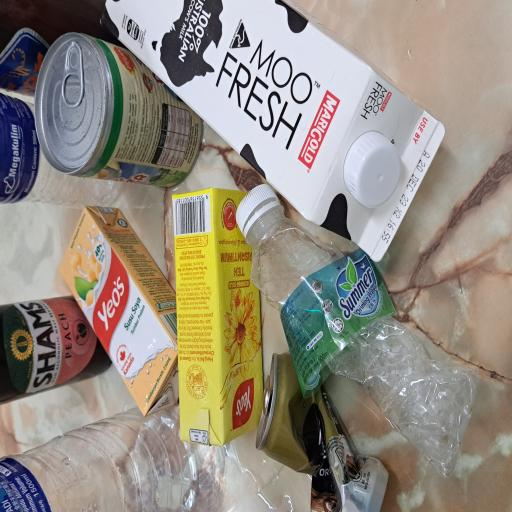can: (243, 46, 360, 270), (0, 340, 121, 512)
drink carton: (187, 140, 384, 512), (71, 77, 231, 236), (49, 230, 243, 350)
glass bottle: (79, 0, 162, 151), (312, 0, 384, 166)
plastic bottle: (25, 326, 229, 512), (0, 0, 82, 305), (227, 0, 314, 169)
plastic bottle cap: (228, 458, 286, 512), (209, 313, 246, 373)
pop tab: (303, 80, 353, 114), (72, 350, 103, 361)
